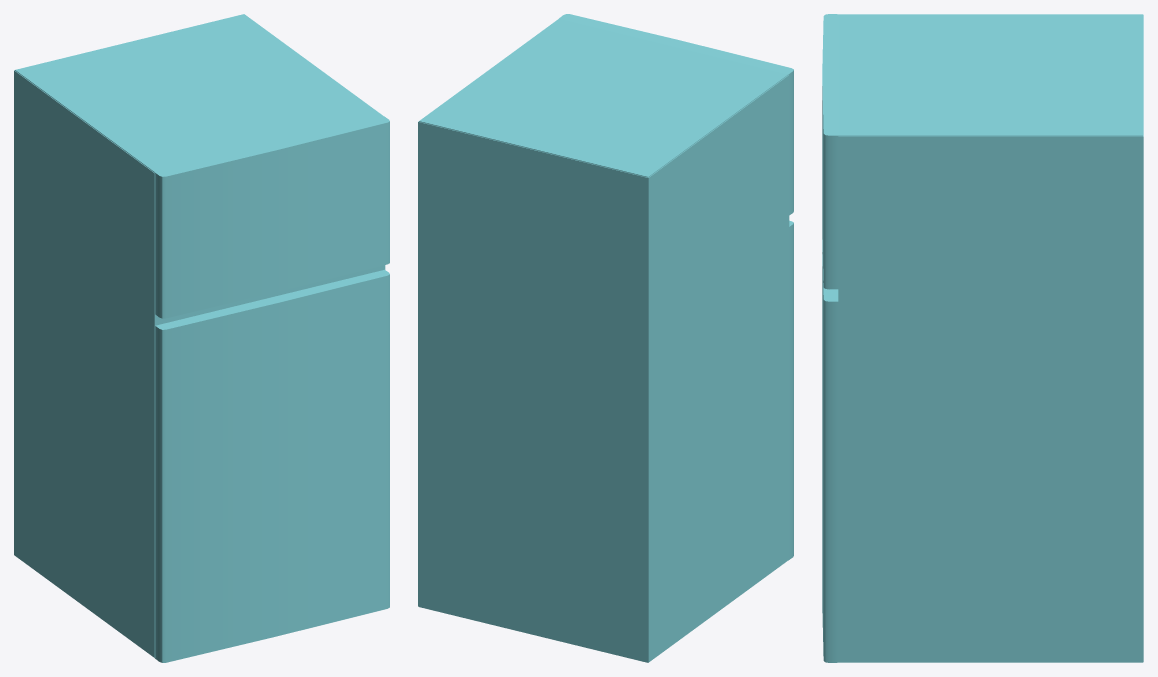
Rendered from geladeira 1.fbx.
3 views of the same model, side by side, from view 1: azimuth 30°, elevation 25°; view 2: azimuth 150°, elevation 25°; view 3: azimuth 270°, elevation 25° (orthographic). The views are drawn at different scales.
Parts seen in each view (by area): view 1: Geladeira; view 2: Geladeira; view 3: Geladeira.
Boxes of the visible parts, <box> form: Geladeira: <box>14,14,389,662</box>; Geladeira: <box>418,14,793,662</box>; Geladeira: <box>822,14,1143,662</box>.
Bounding box in the file's own units: 208 × 419 × 232.
